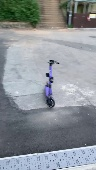beam: (41, 58, 60, 109)
